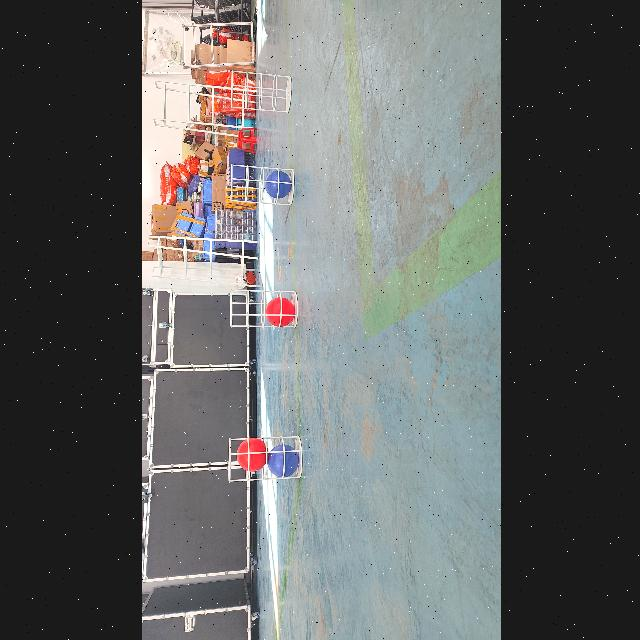B: (266, 442, 298, 478), (263, 168, 289, 200)
R: (235, 438, 267, 472), (264, 296, 292, 326)
S: (223, 432, 300, 488), (226, 286, 296, 336), (227, 69, 295, 117), (224, 163, 294, 207)
